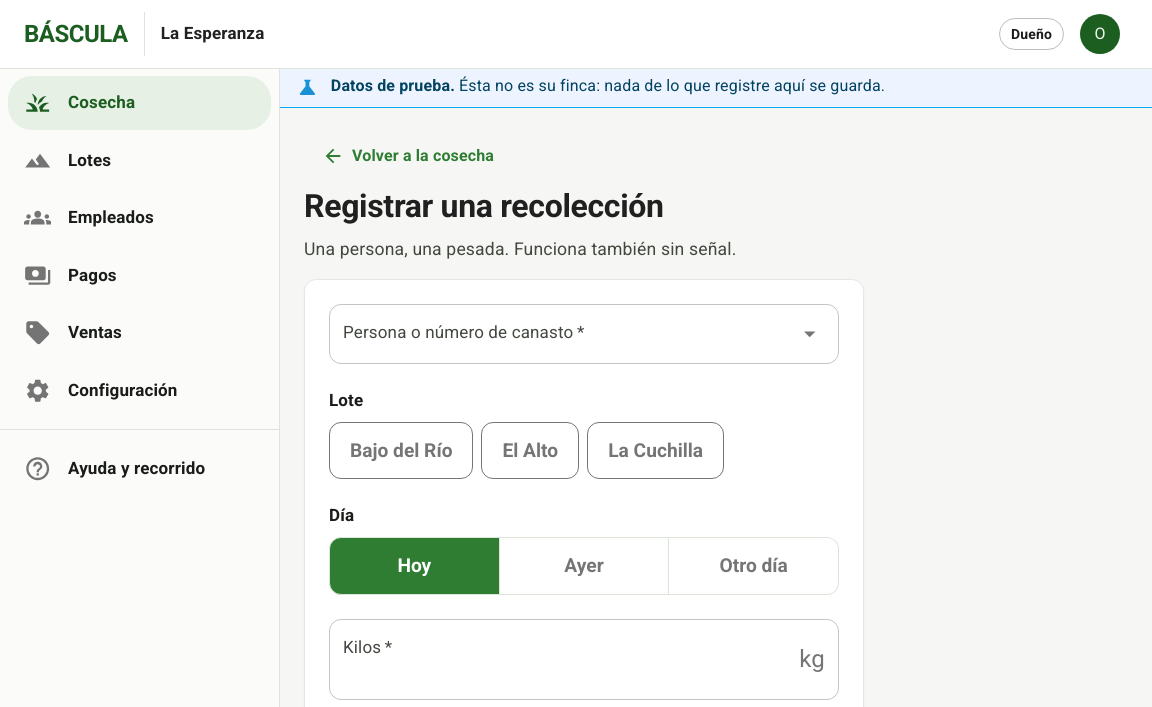
Test case: weighing with no signal › keeps the weighing on the phone and uploads it later with the same id
Click the dropdown labelled "Persona o número de canasto *" at (569, 334), box top-left (338, 313), bottom-right (800, 355)
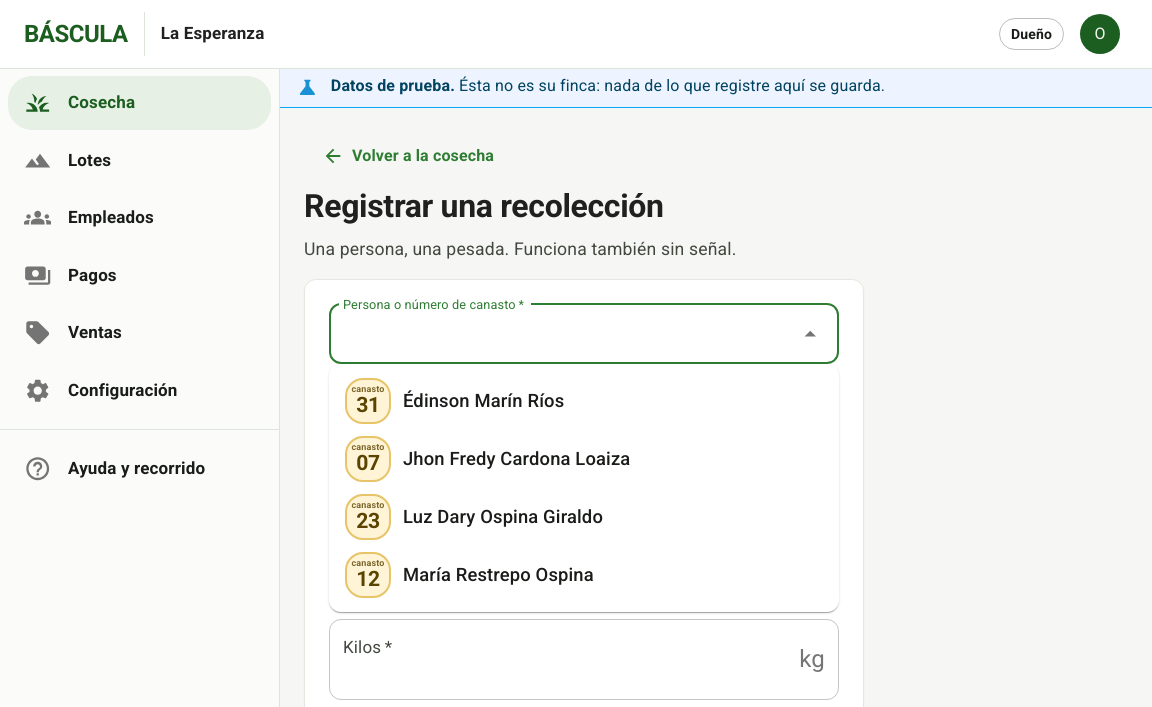
Click the option "canasto 12 María Restrepo Ospina" at (469, 575), box top-left (345, 552), bottom-right (594, 598)
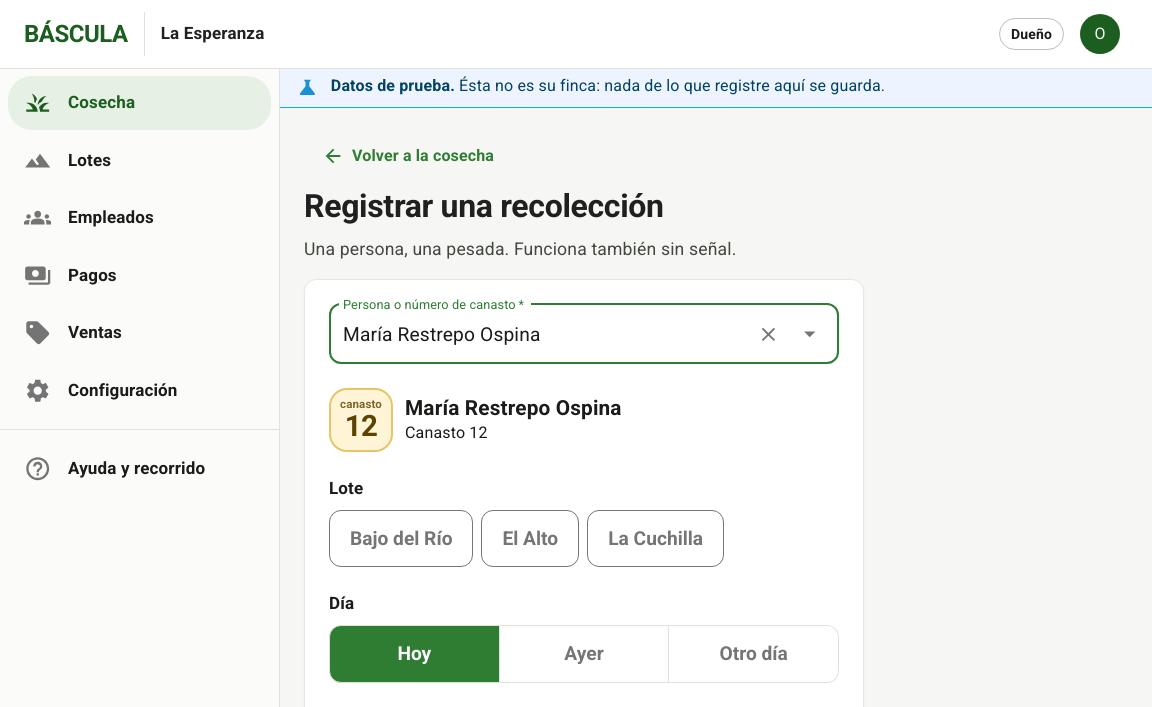
Click the button "El Alto" at (530, 539), box top-left (482, 510), bottom-right (579, 568)
(page scrolled)
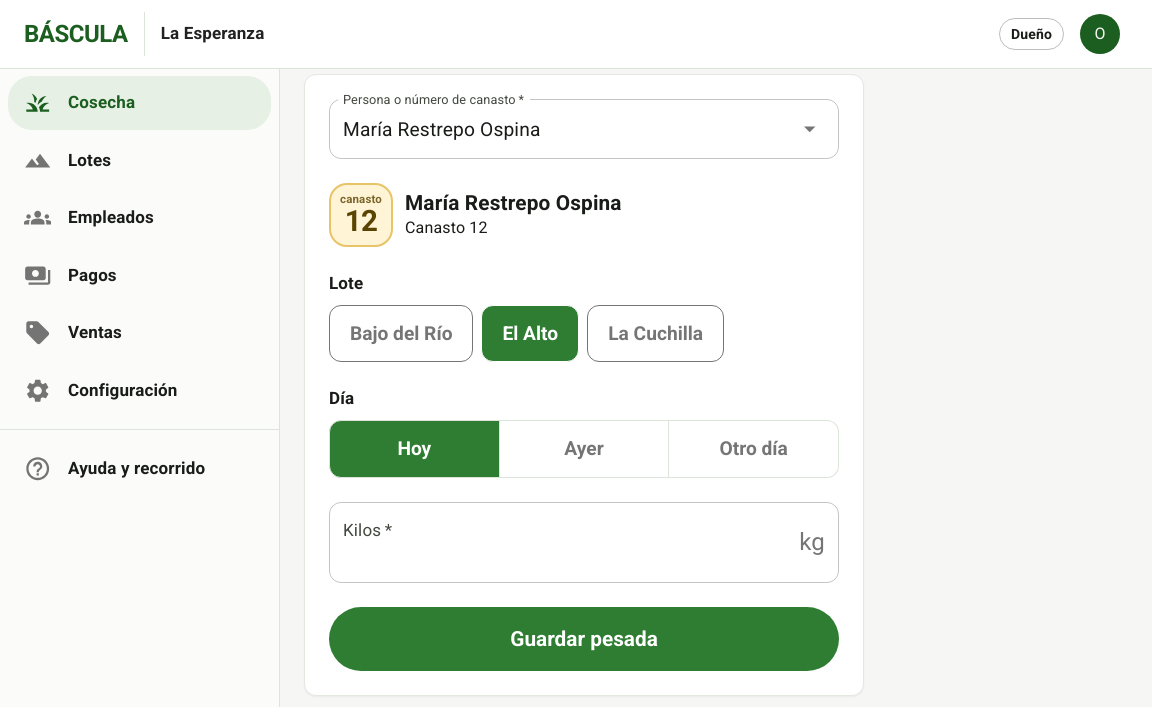
Type "37" into the field labelled "Kilos" at (560, 542), box top-left (329, 502), bottom-right (791, 583)
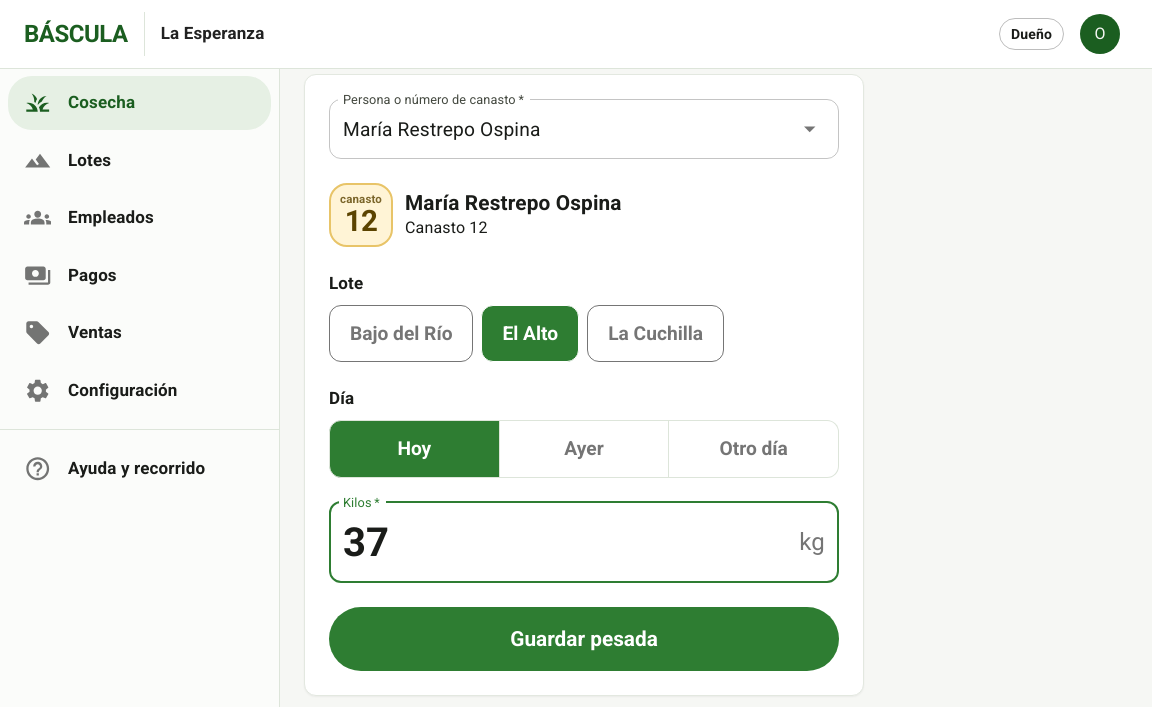
Click the button "Guardar pesada" at (584, 639), box top-left (329, 607), bottom-right (839, 671)
(page scrolled)
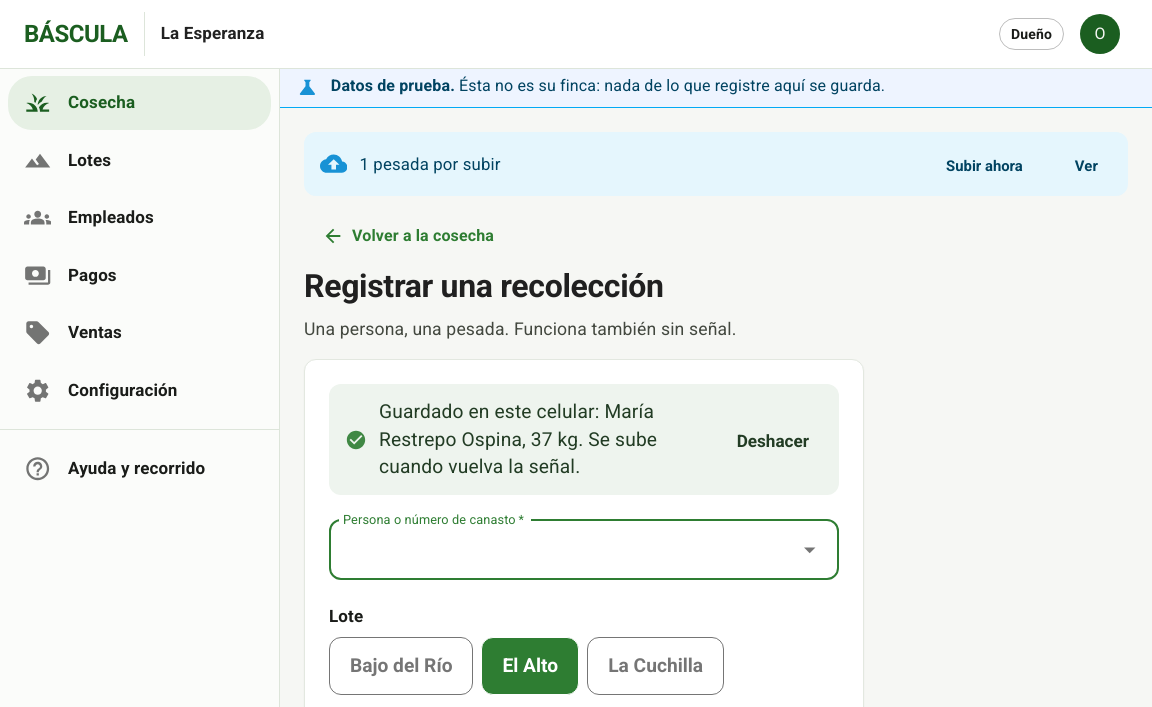
Check: the text "Guardado en este celular: María Restrepo Ospina, 37 kg" is shown, box top-left (379, 400), bottom-right (657, 478)
Check: the text "1 pesada por subir" is shown, box top-left (359, 154), bottom-right (500, 174)
Click the button "Subir ahora" at (984, 166), box top-left (924, 142), bottom-right (1045, 190)
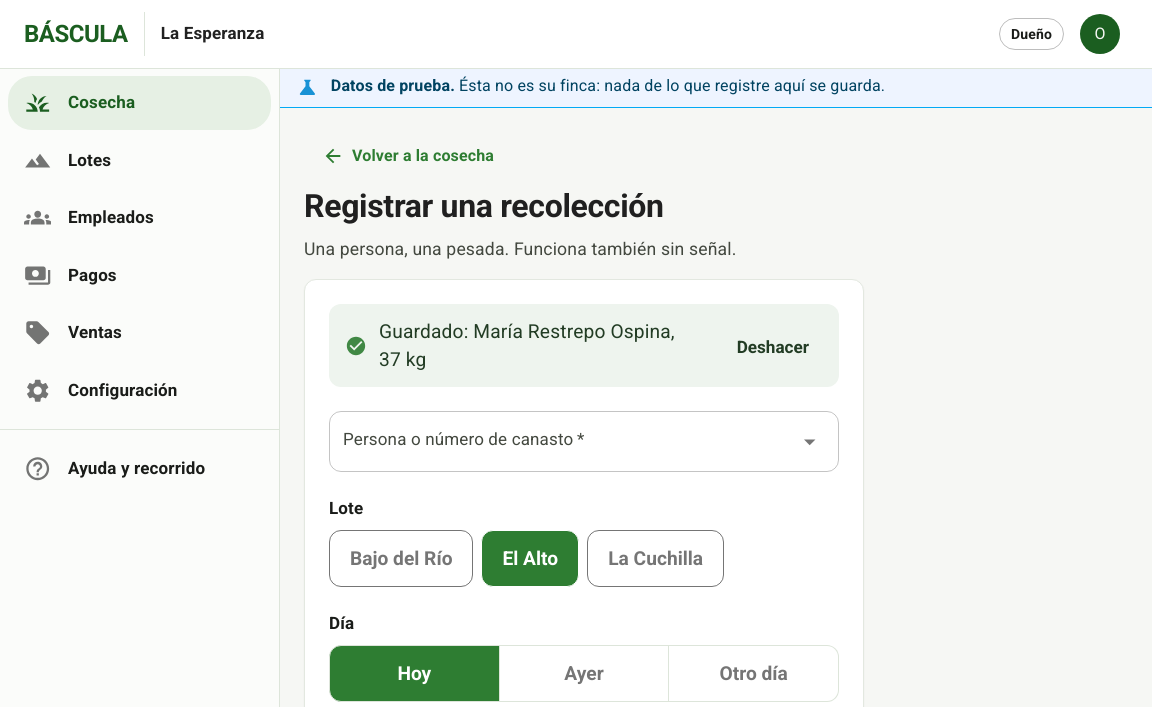
Check: the text "1 pesada por subir" is gone
